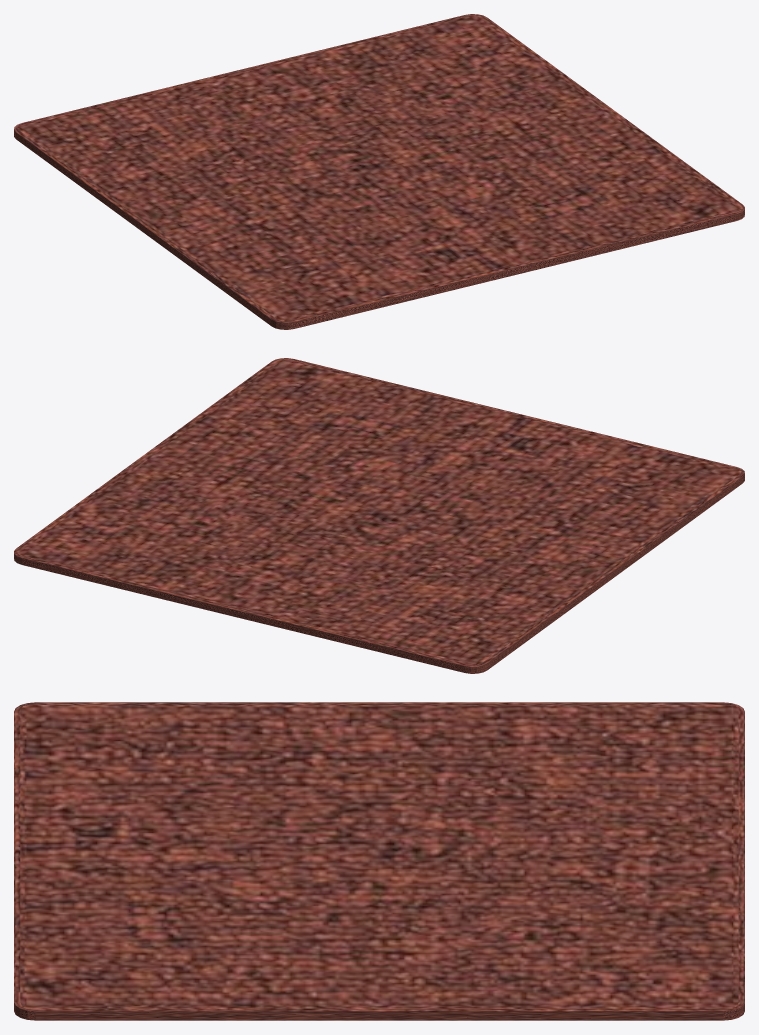
The model's file is carpet.glb.
3 renders of one model, top to bottom at view 1: azimuth 30°, elevation 25°; view 2: azimuth 150°, elevation 25°; view 3: azimuth 270°, elevation 25°, orthographic. The views are drawn at different scales.
Parts seen in each view (by area): view 1: Cube; view 2: Cube; view 3: Cube.
Part boxes in pixels (x1,y1,x2,y2): Cube: (14, 14, 744, 329); Cube: (14, 358, 744, 673); Cube: (14, 702, 744, 1020).
Size of the model in its own units: 4 by 0.06 by 4.
Materials: 1 (1 with a texture image).
